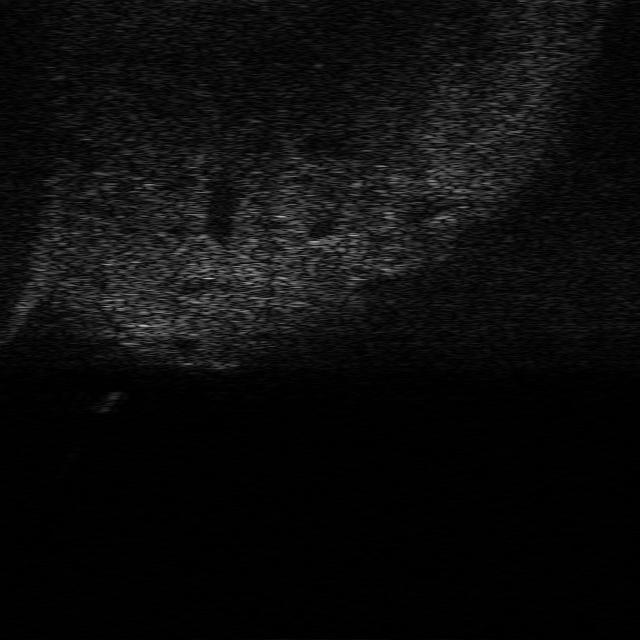cylinder: (98, 388, 119, 416)
